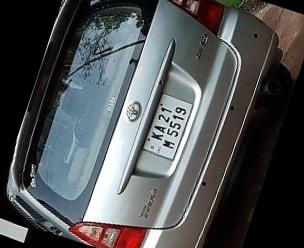plate: (127, 81, 208, 166)
